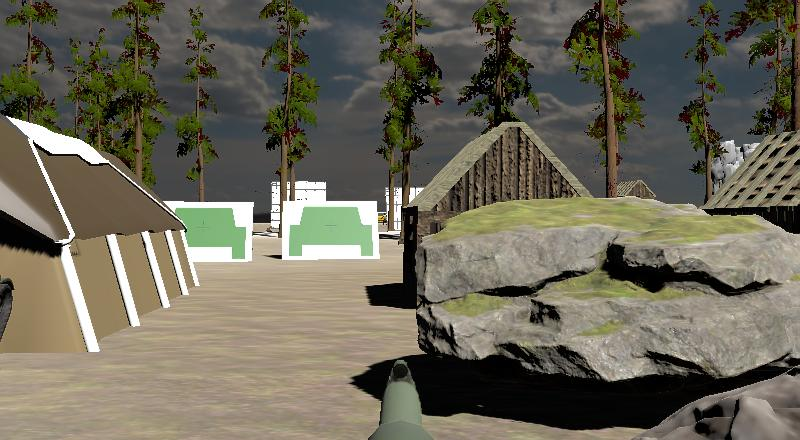House: (417, 122, 591, 201), (718, 129, 800, 229)
car: (378, 212, 387, 224)
